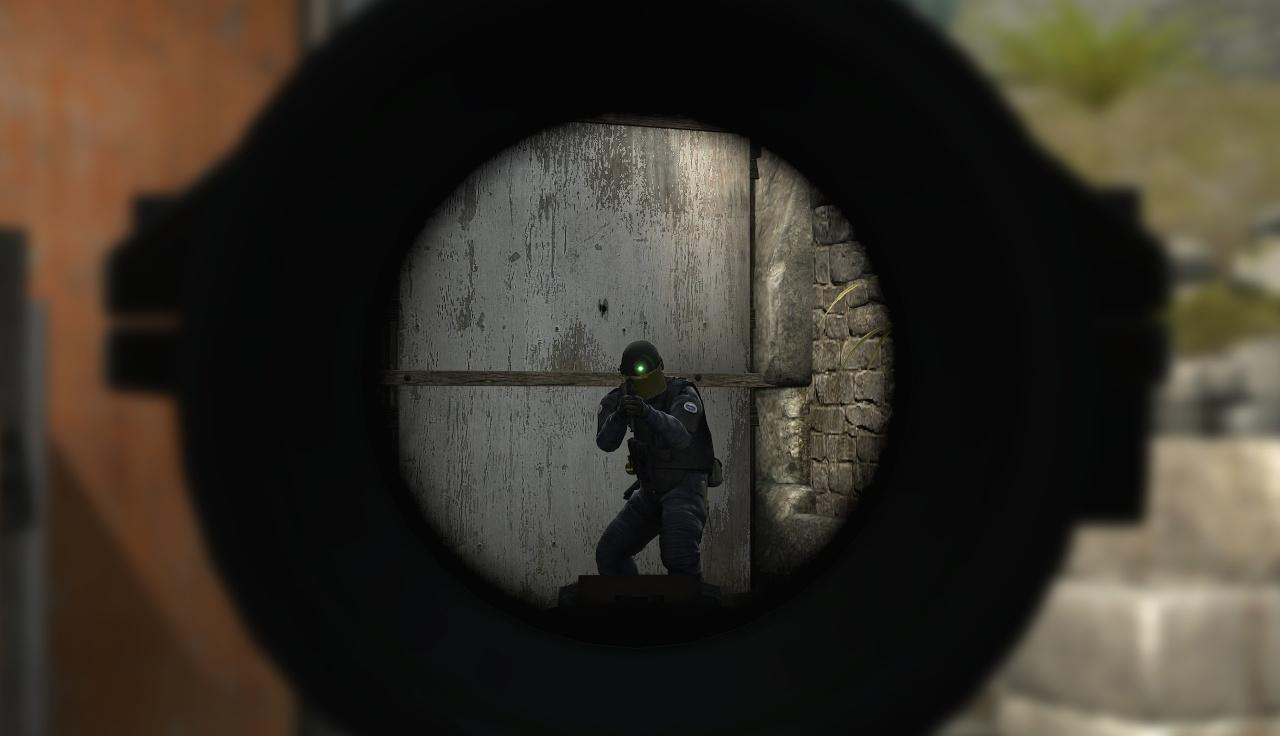ct: (600, 345, 701, 578)
cthead: (621, 341, 666, 397)
